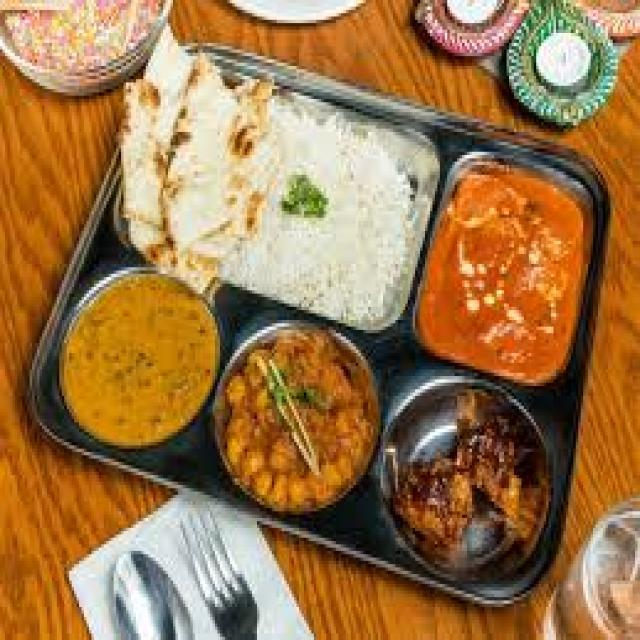curd: (428, 0, 522, 29)
dal: (49, 270, 210, 454)
rice: (221, 86, 426, 333)
roti: (124, 60, 271, 276)
veg-fry: (206, 304, 388, 533), (417, 157, 587, 394), (3, 0, 161, 99)
